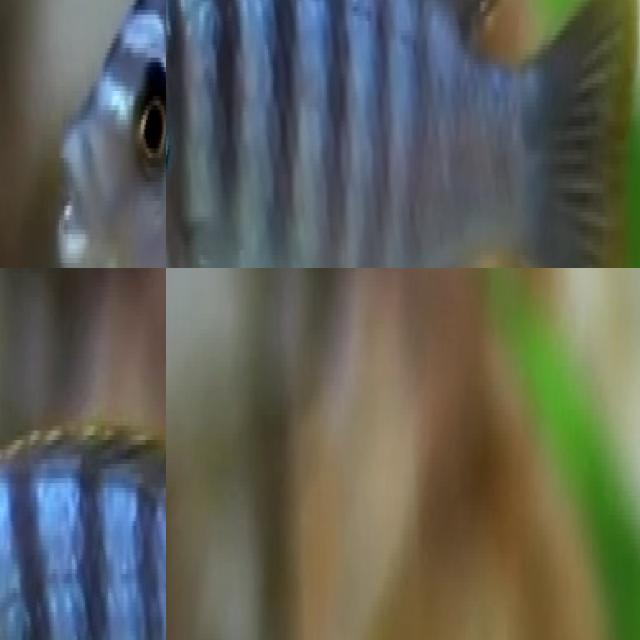fish: (166, 0, 637, 268), (0, 325, 166, 640), (1, 0, 166, 268)
